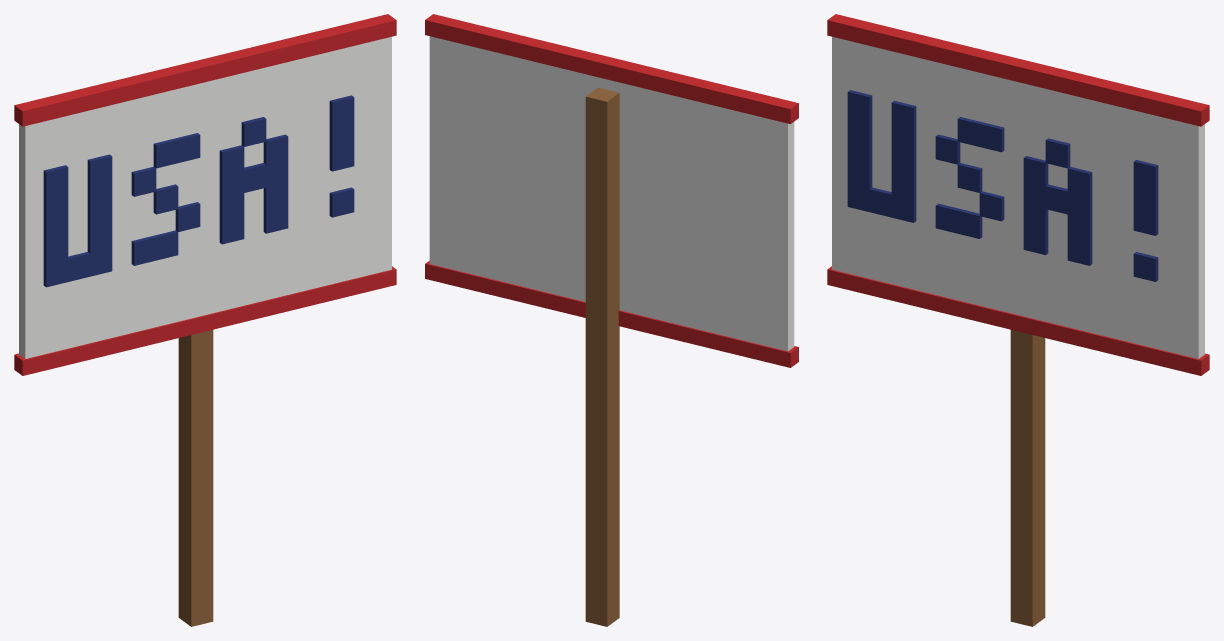
Rendered from sign.glb.
3 views of the same model, side by side, from view 1: azimuth 30°, elevation 25°; view 2: azimuth 150°, elevation 25°; view 3: azimuth 330°, elevation 25° (orthographic). The views are drawn at different scales.
Parts seen in each view (by area): view 1: sign; view 2: sign; view 3: sign.
Boxes of the visible parts, bbox=[...] form: sign: bbox=[14, 14, 396, 626]; sign: bbox=[425, 14, 798, 626]; sign: bbox=[827, 14, 1209, 626].
Size of the model in its own units: 0.51 by 0.735 by 0.051.
Materials: 1 (1 with a texture image).
